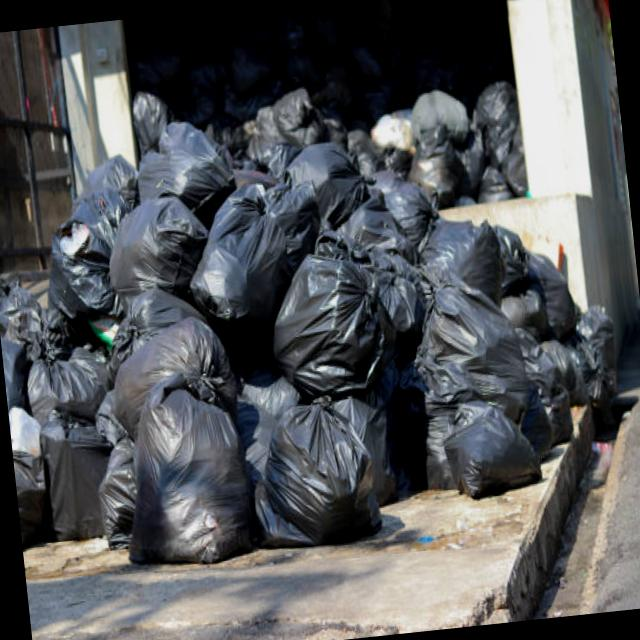garbage: (0, 54, 625, 570)
